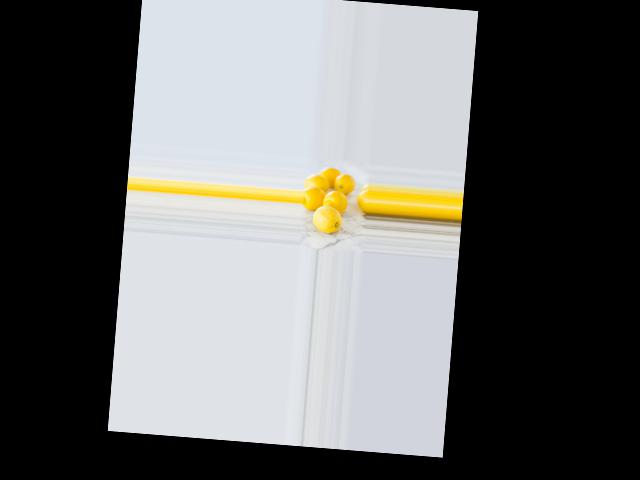lemon: (308, 202, 347, 234)
